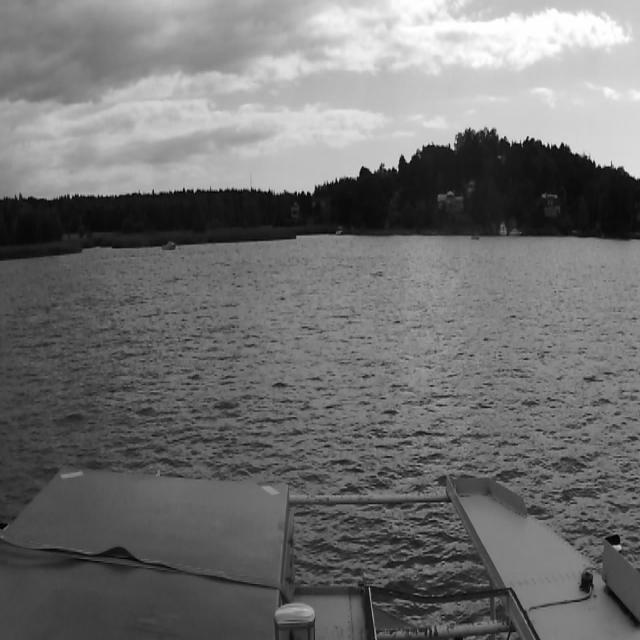ship: (162, 238, 176, 252), (508, 227, 523, 238), (333, 224, 345, 236), (470, 232, 480, 240)
